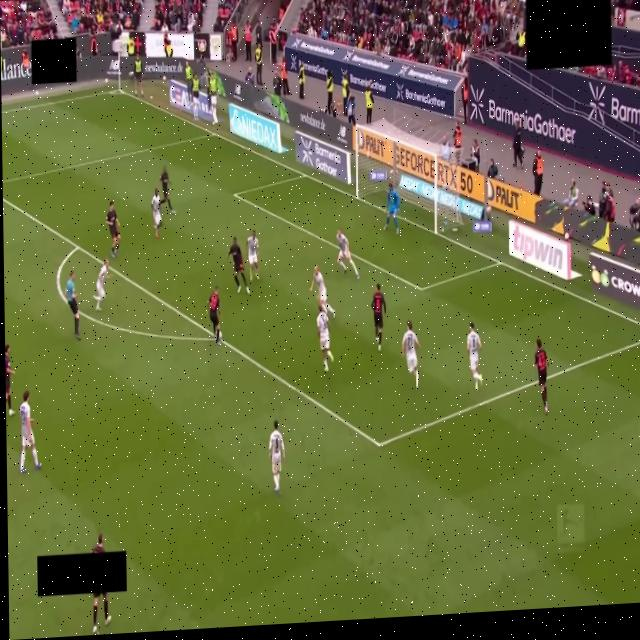player: (20, 391, 41, 473), (227, 237, 250, 294), (310, 266, 335, 318), (402, 320, 420, 389), (269, 420, 285, 494), (534, 338, 549, 415), (317, 306, 333, 372), (337, 229, 358, 279), (467, 322, 482, 390), (207, 285, 223, 345), (372, 283, 386, 351), (106, 201, 120, 257), (94, 259, 109, 311), (384, 185, 399, 234), (160, 166, 175, 214), (93, 592, 110, 634), (5, 344, 14, 416), (247, 230, 258, 280), (151, 189, 161, 238)
referee: (65, 271, 80, 341)
